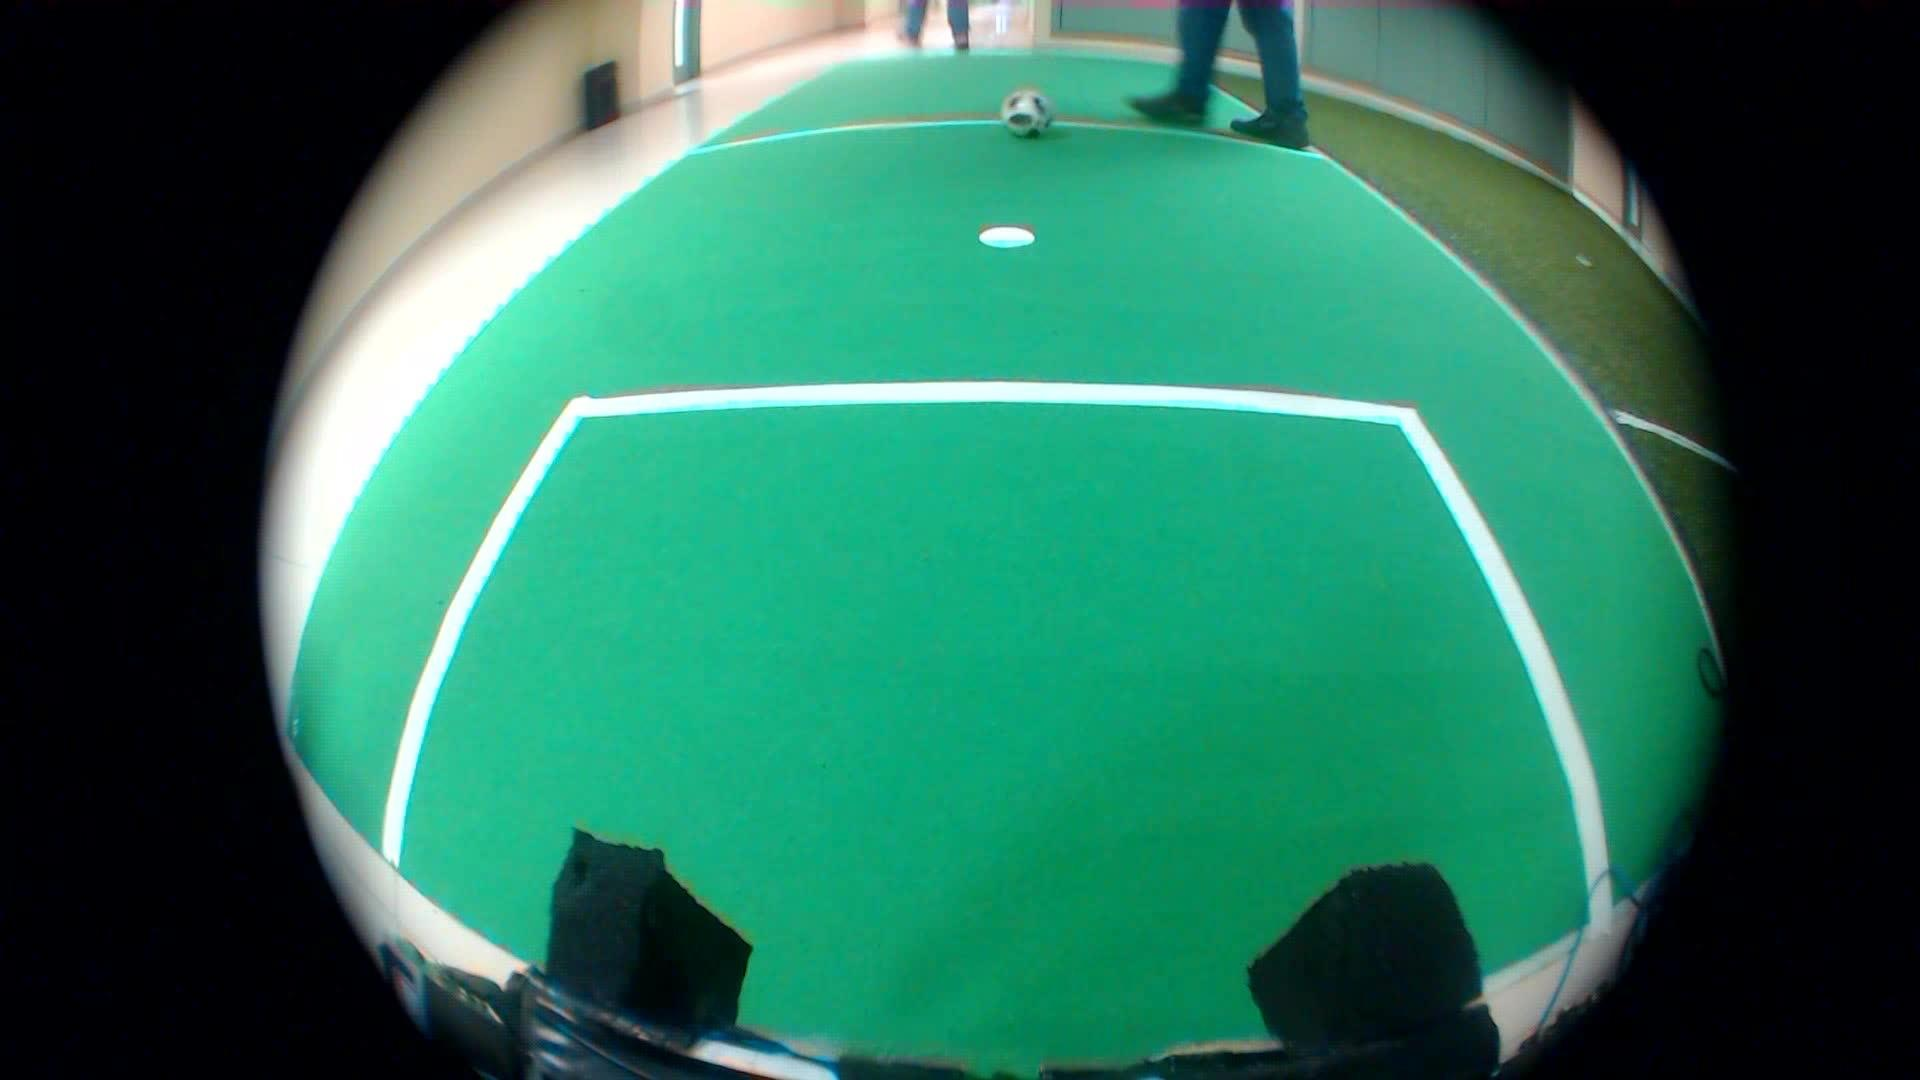ball: (997, 71, 1059, 144)
